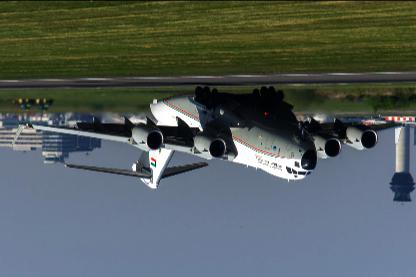C2: (13, 86, 405, 188)
